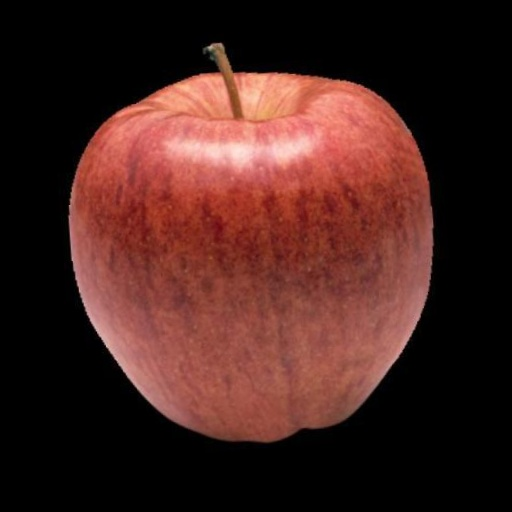fruit: (25, 139, 141, 468)
